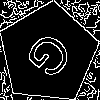G: (23, 28, 82, 89)
